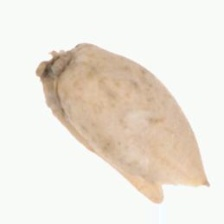L1: (34, 49, 74, 99), (149, 177, 212, 204)
L2: (36, 43, 211, 204)
